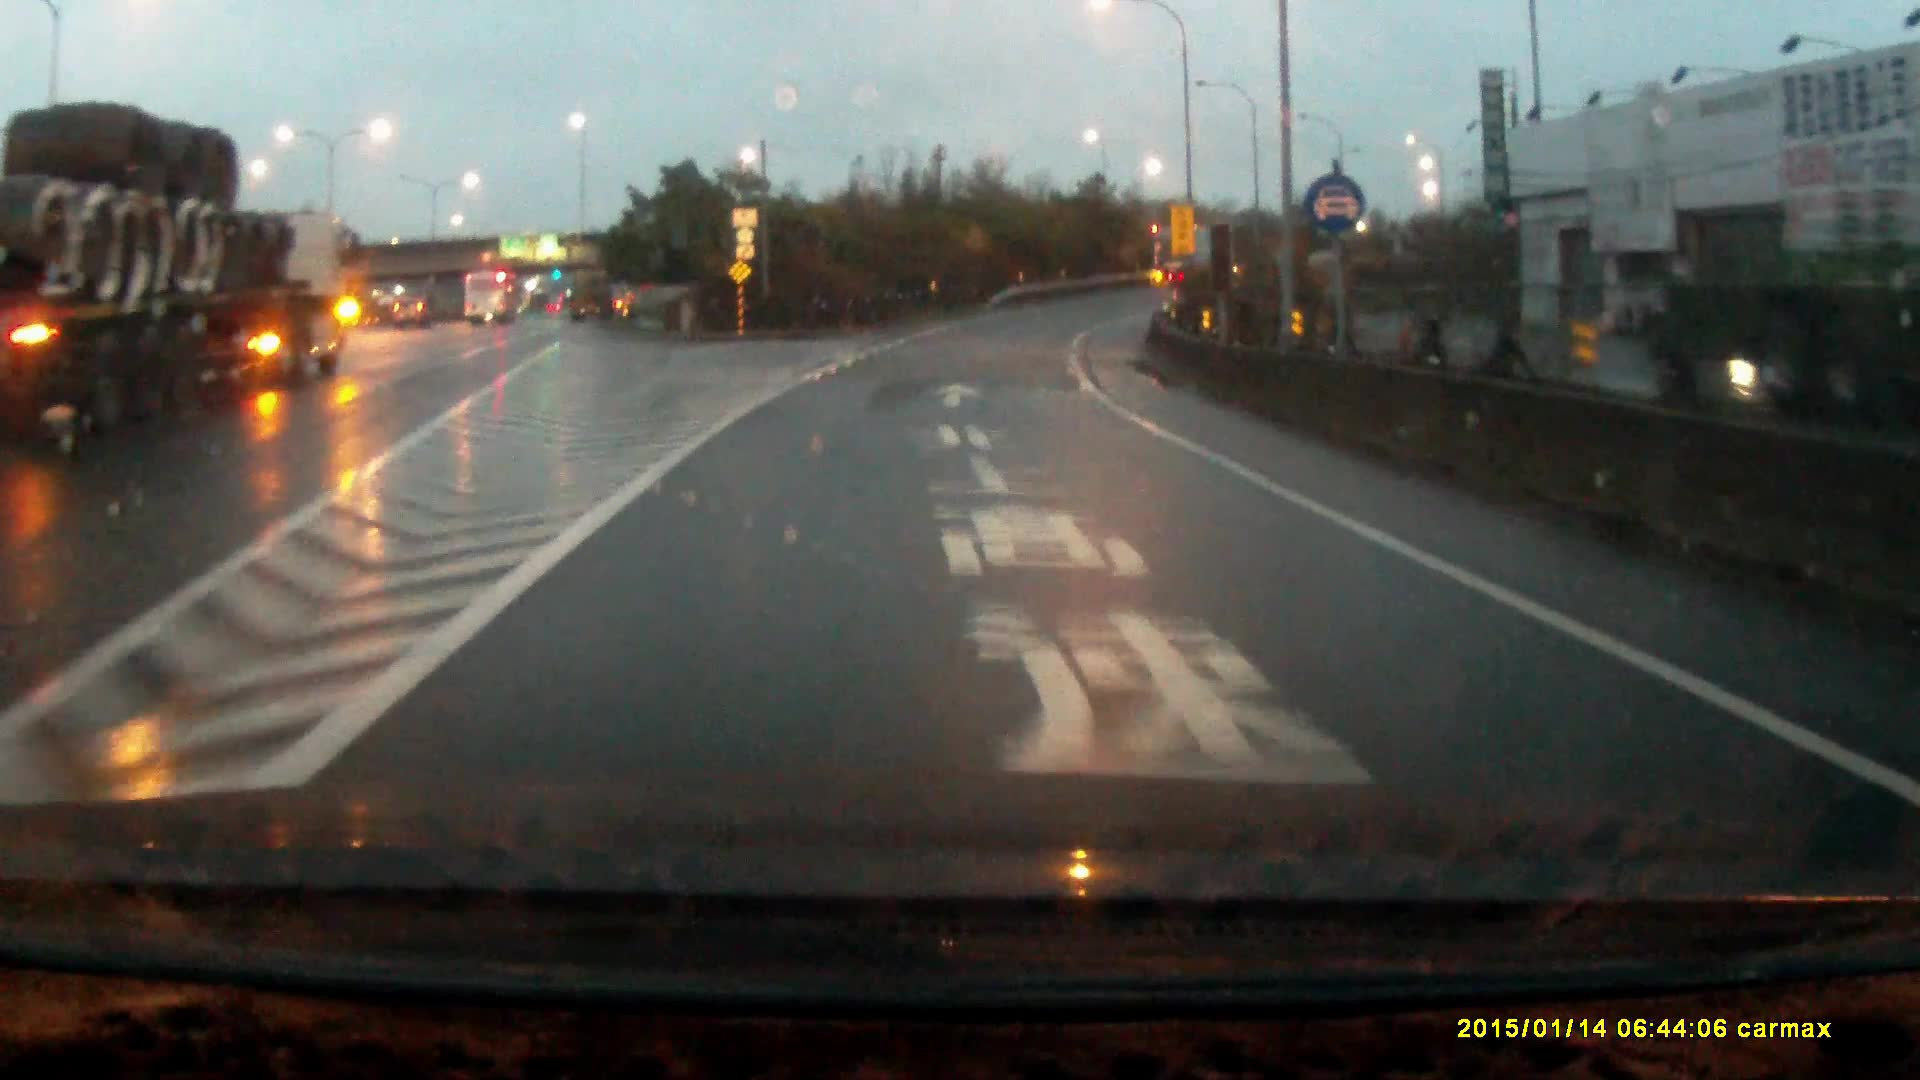vehicle: (1, 105, 359, 436), (1150, 222, 1244, 284), (463, 270, 524, 327), (393, 293, 430, 326)
